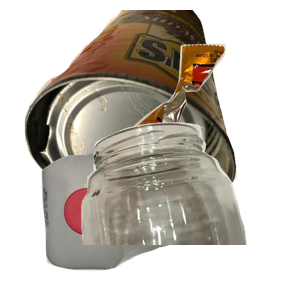glass: (74, 120, 300, 300)
metal: (22, 10, 251, 190)
plastic: (39, 149, 203, 300)
trash: (122, 41, 300, 190)
